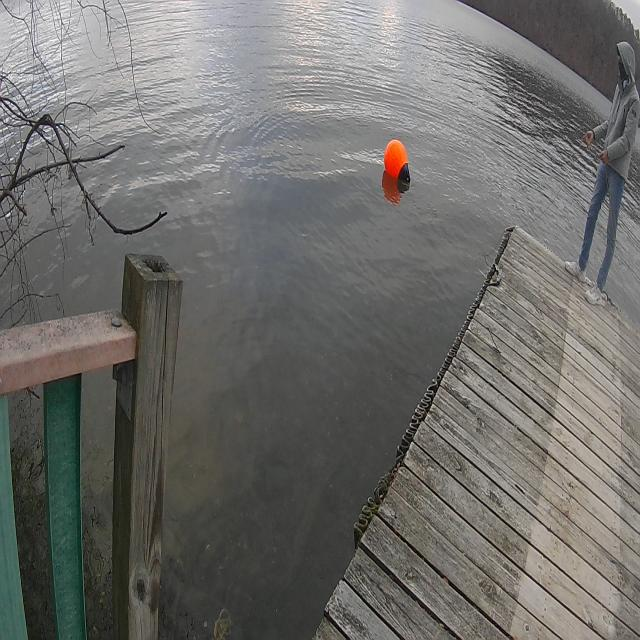Buoy: (380, 132, 416, 198)
